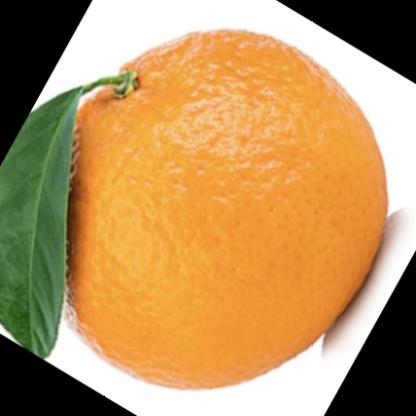fresh: (48, 33, 389, 391)
